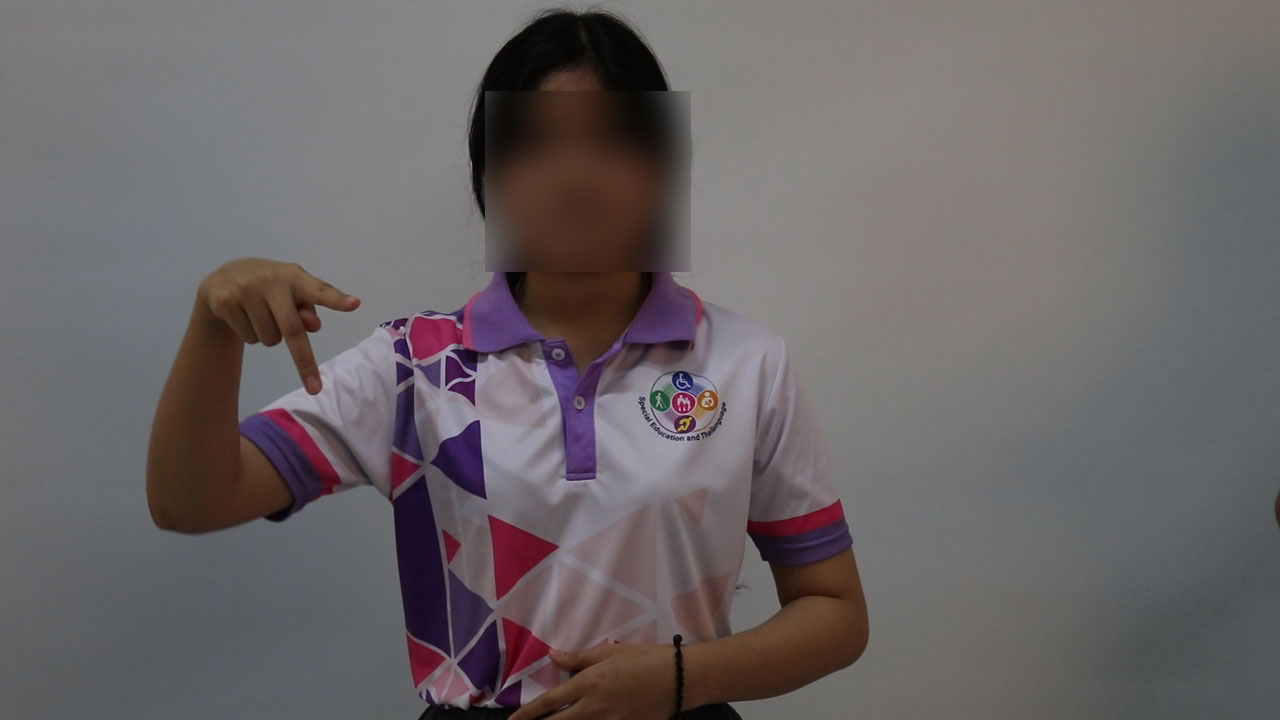por: (184, 231, 370, 406)
